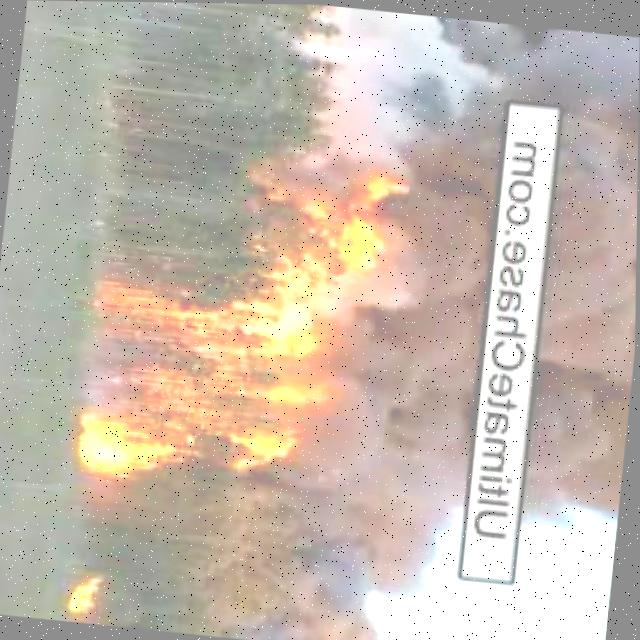Fire: (64, 283, 328, 491), (265, 147, 402, 277), (65, 565, 120, 614)
Smoke: (210, 3, 510, 640), (522, 27, 640, 534)
